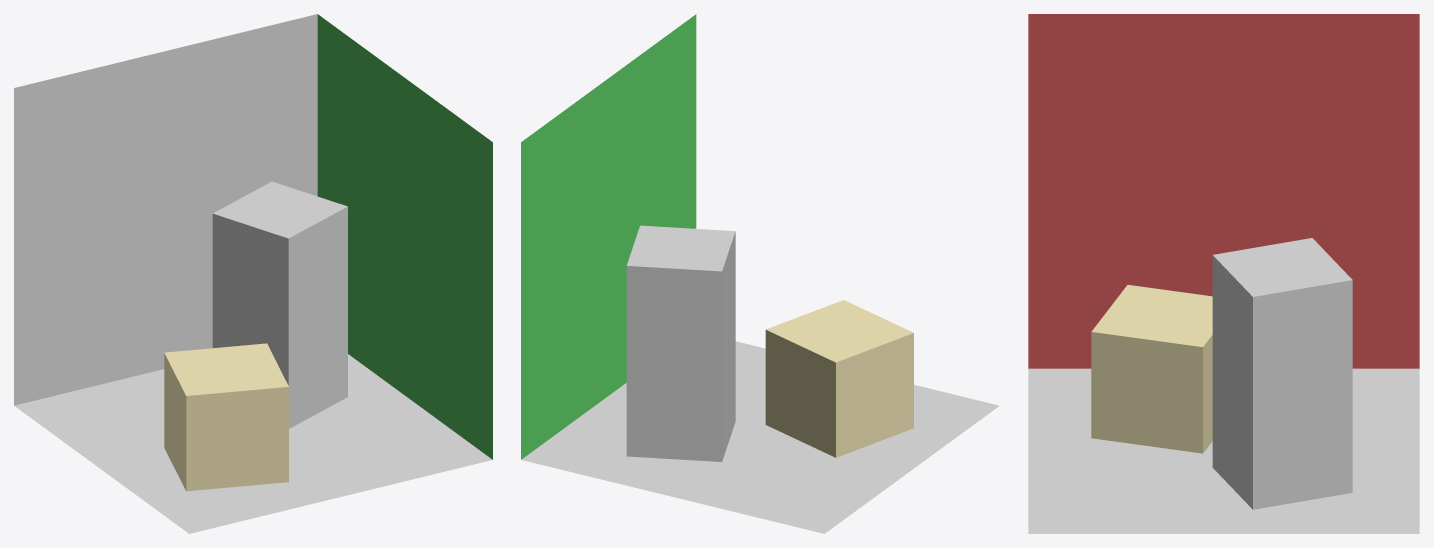
Rendered from cornell_box.gltf.
The picture shows the model from 3 angles, left to right: view 1: azimuth 30°, elevation 25°; view 2: azimuth 150°, elevation 25°; view 3: azimuth 270°, elevation 25°; orthographic projection. The views are drawn at different scales.
Visible parts, largest first — view 1: Node_BackWall, Node_RightWall, Node_Floor, Node_TallBox, Node_ShortBox; view 2: Node_RightWall, Node_Floor, Node_TallBox, Node_ShortBox; view 3: Node_LeftWall, Node_Floor, Node_TallBox, Node_ShortBox.
Part boxes in pixels (x1,y1,x2,y2): Node_BackWall: [14, 14, 317, 405]; Node_RightWall: [317, 14, 492, 459]; Node_Floor: [14, 354, 492, 533]; Node_TallBox: [212, 181, 347, 428]; Node_ShortBox: [164, 343, 288, 491]; Node_RightWall: [521, 14, 696, 459]; Node_Floor: [521, 341, 999, 533]; Node_TallBox: [626, 225, 735, 461]; Node_ShortBox: [765, 300, 913, 457]; Node_LeftWall: [1028, 14, 1419, 368]; Node_Floor: [1028, 368, 1419, 533]; Node_TallBox: [1212, 238, 1352, 509]; Node_ShortBox: [1091, 285, 1212, 453].
Bounding box in the file's own units: 2 × 2 × 2.
